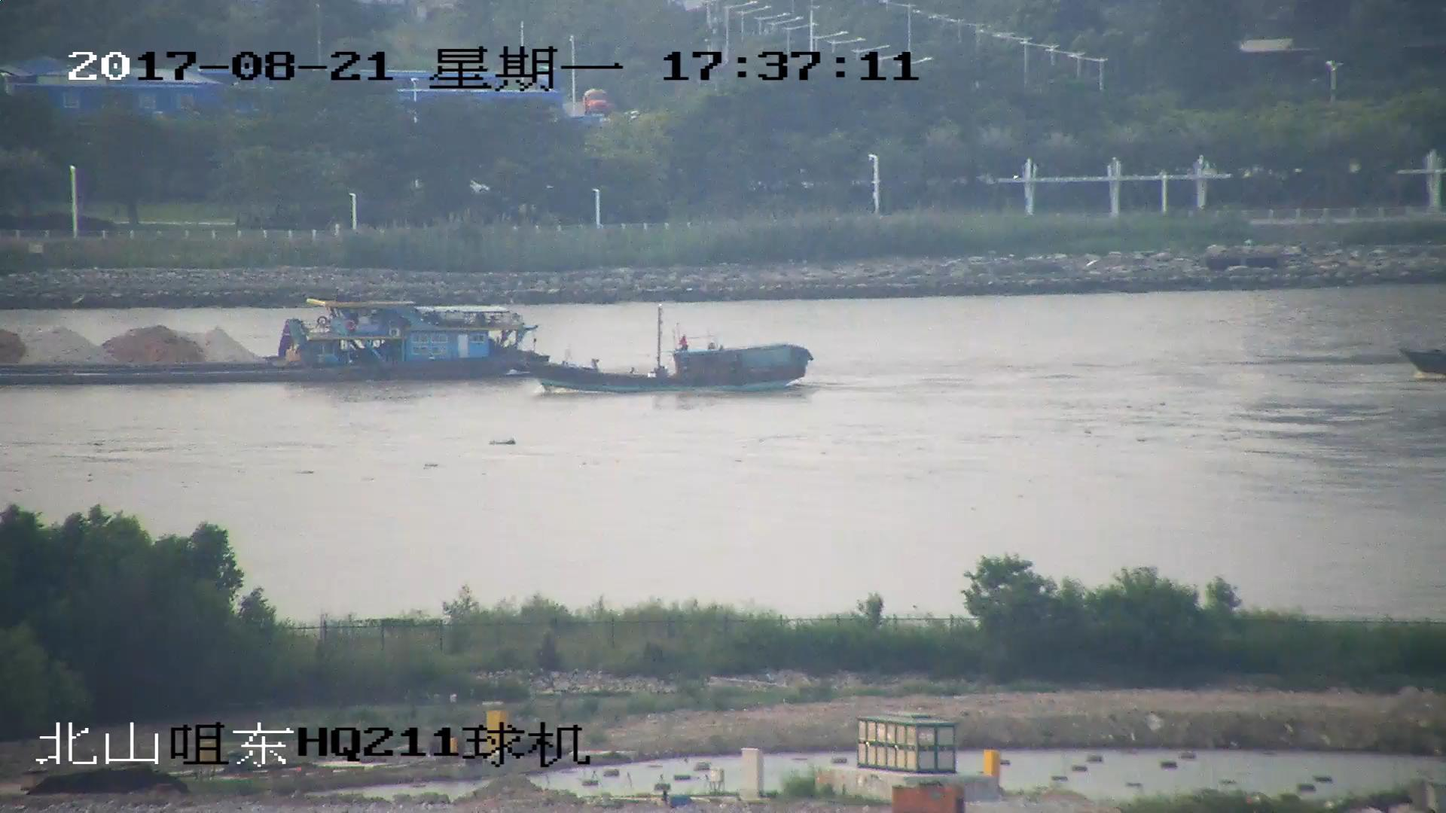fishing boat: (503, 306, 812, 395)
ore carrier: (0, 296, 543, 380)
